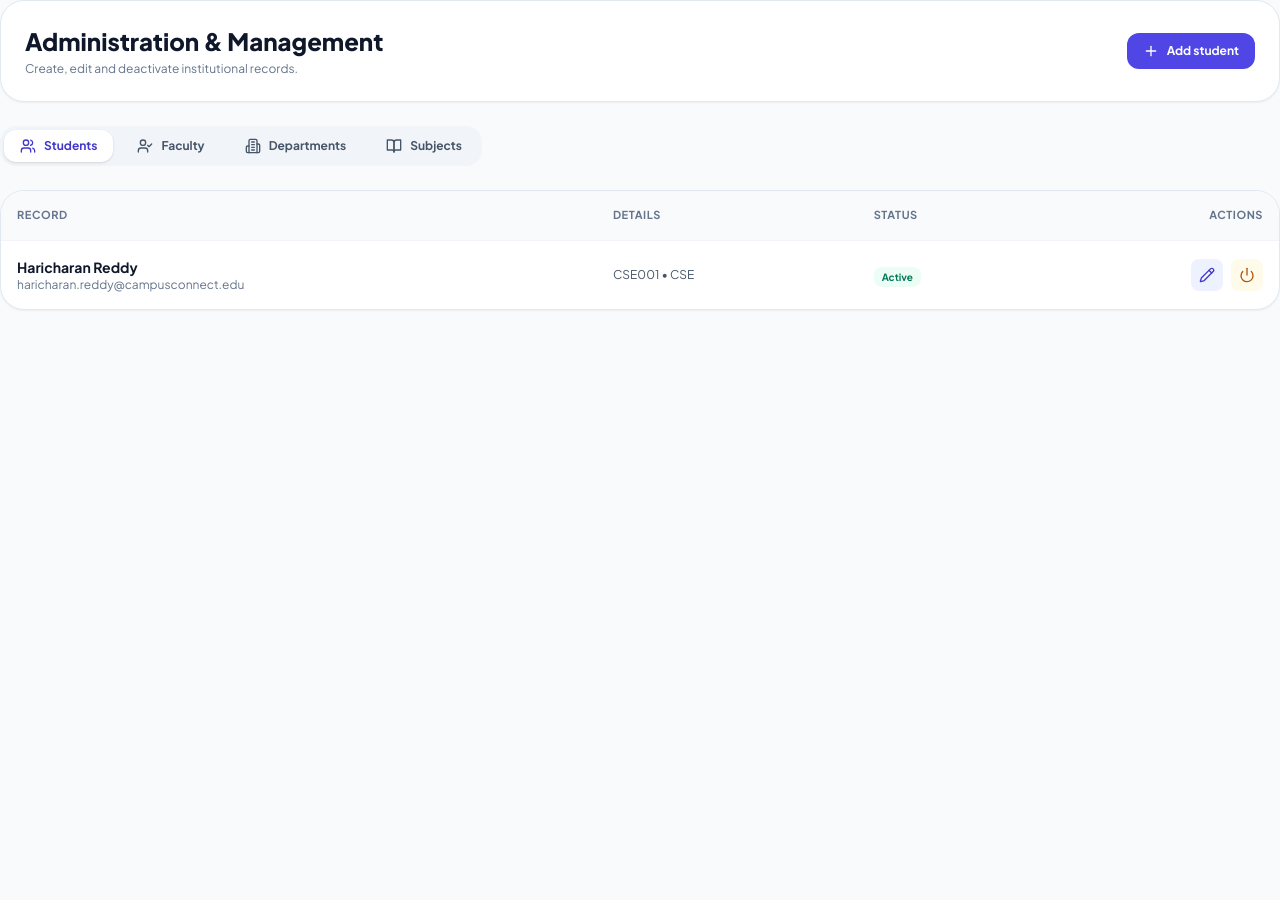
Scenario: CampusConnect admin management › edits an existing student
expect the text "Haricharan Reddy" is shown: met, box [17,258,138,276]
Click the button titled "Edit" at (1207, 274), box [1191,258,1223,290]
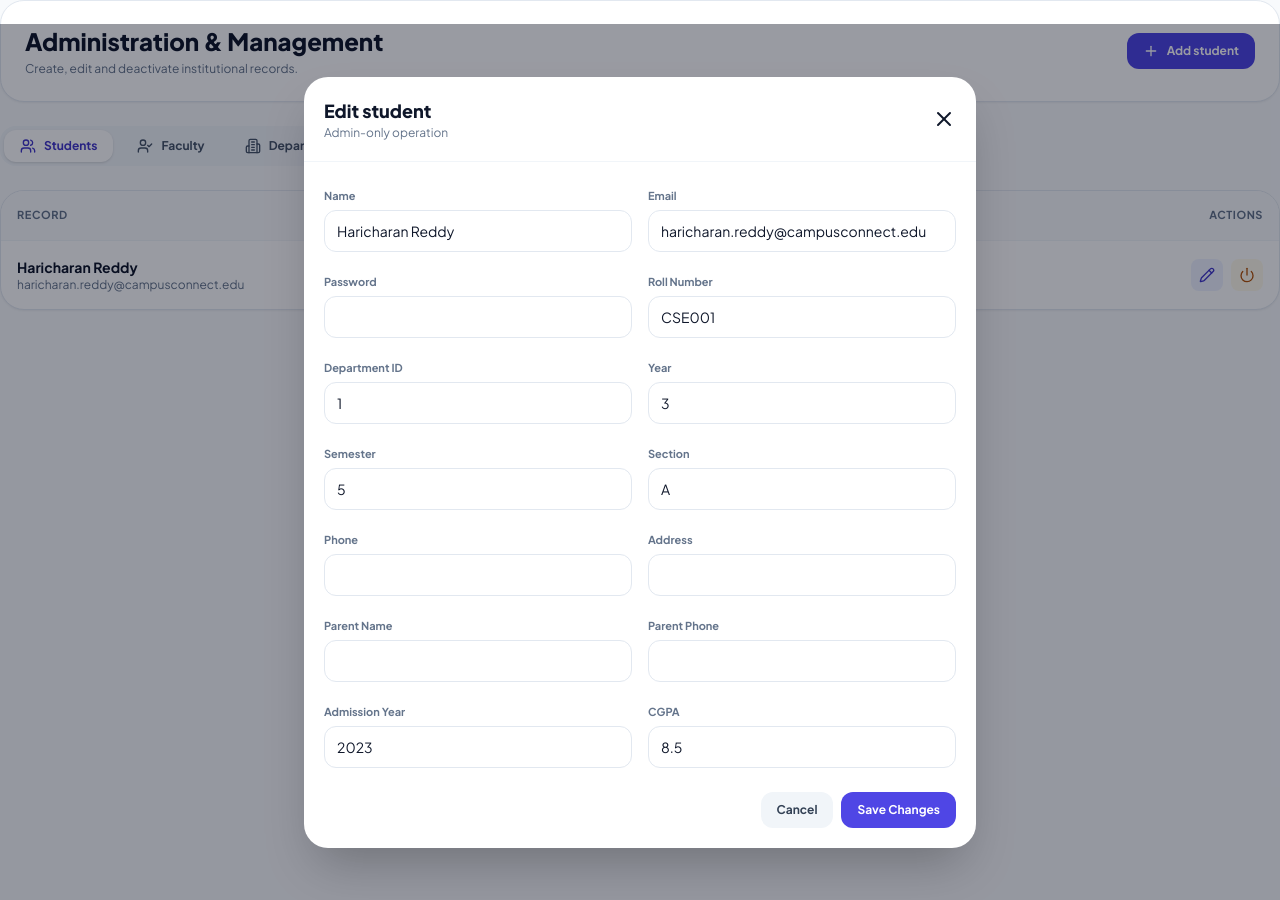
expect the heading "Edit student" is shown: met, box [324,96,448,124]
Replace the text in the field showing "Haricharan Reddy" with "Updated Student" at (478, 230), box [324,210,632,252]
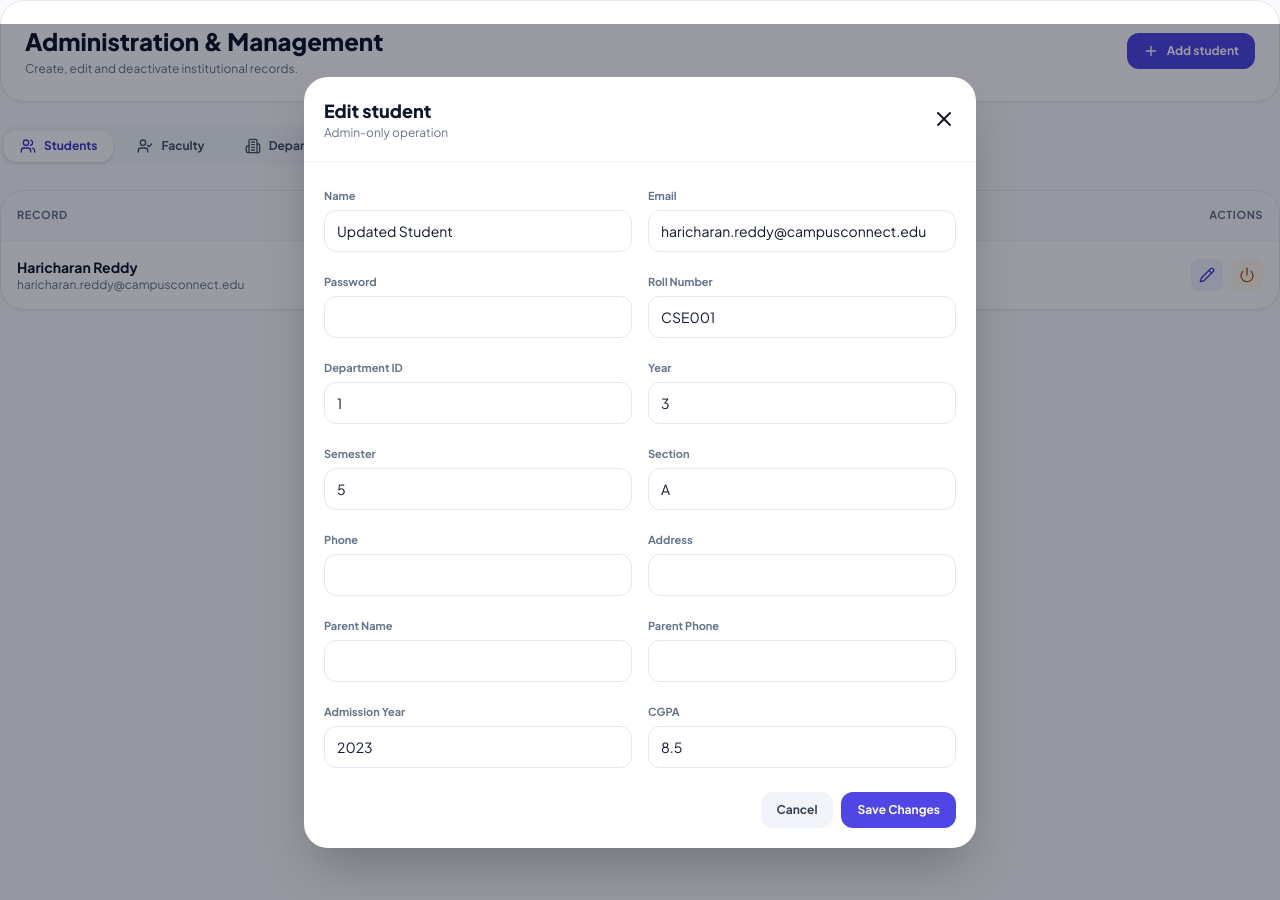
Click the button "Save Changes" at (899, 810), box [842,792,956,828]
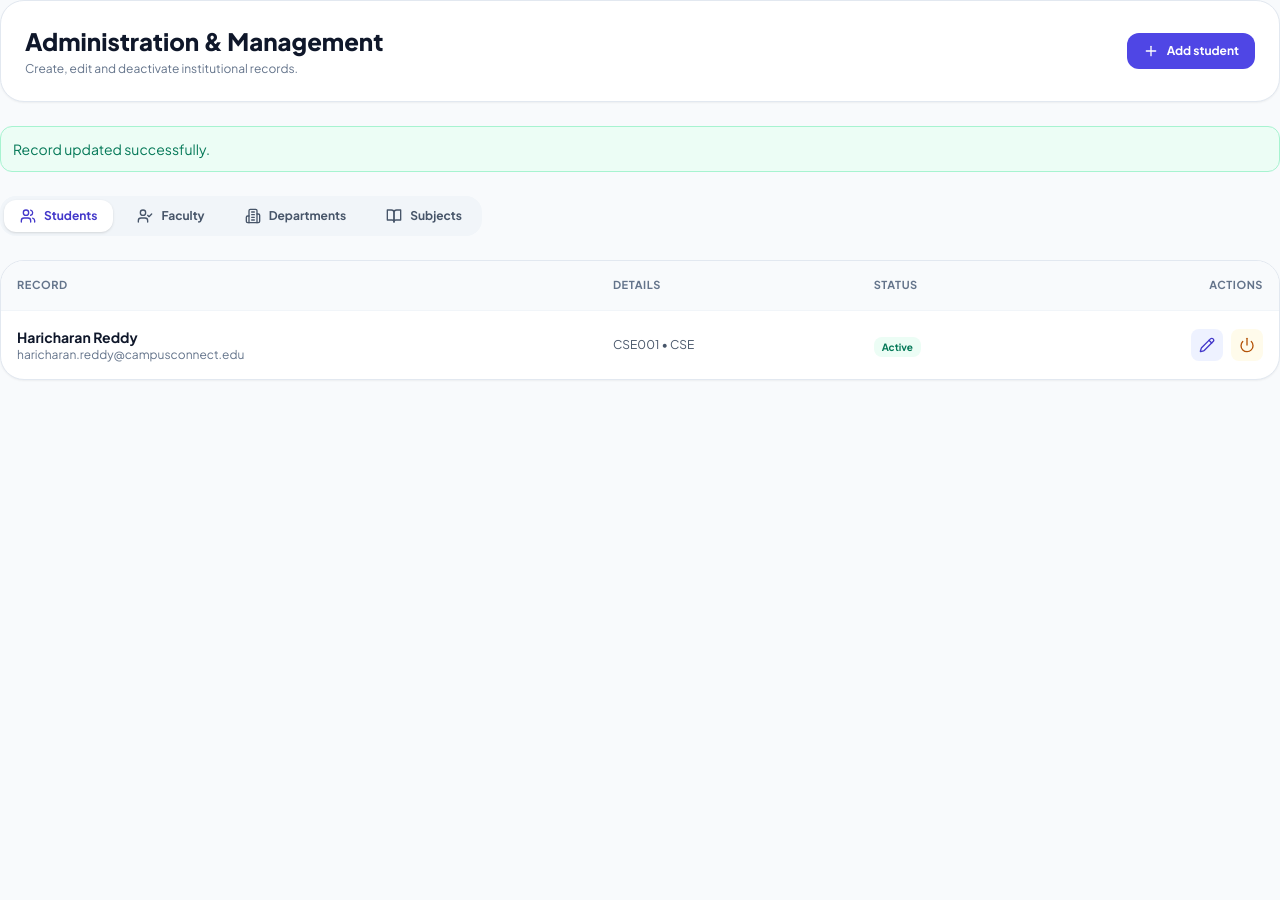
expect the text "Record updated successfully." is shown: met, box [0,126,1279,172]
